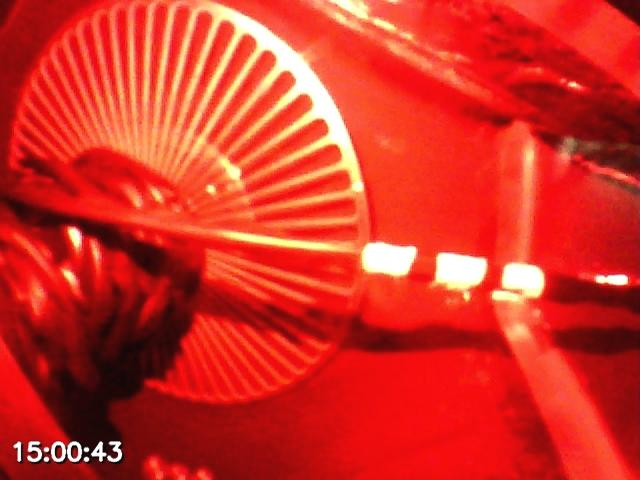white-dots: (360, 241, 546, 305)
